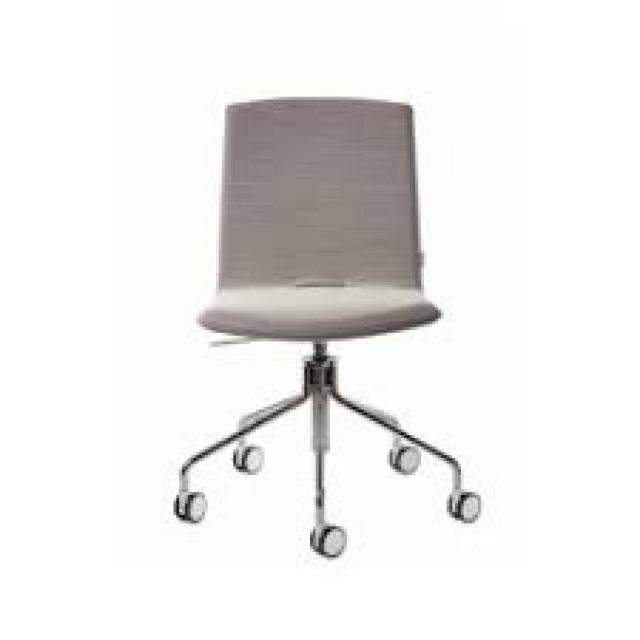chair: (92, 57, 543, 640)
